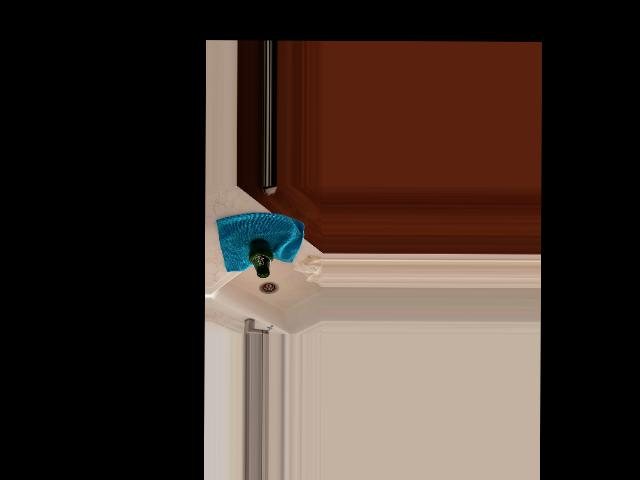beer: (249, 238, 273, 277)
